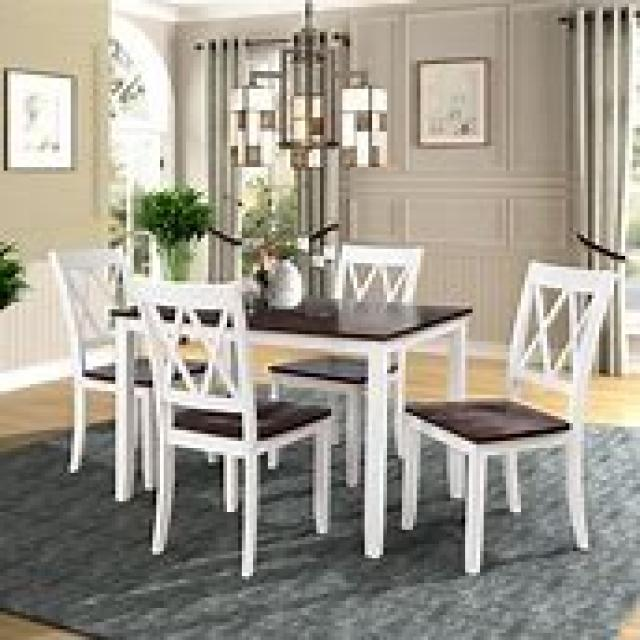chair: (398, 256, 618, 572), (45, 246, 223, 502), (264, 242, 424, 487)
table: (104, 292, 473, 558)
